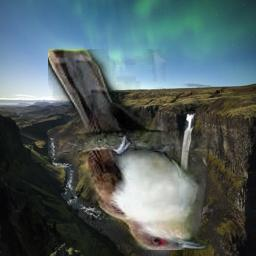Cuckoo: (48, 49, 208, 250)
